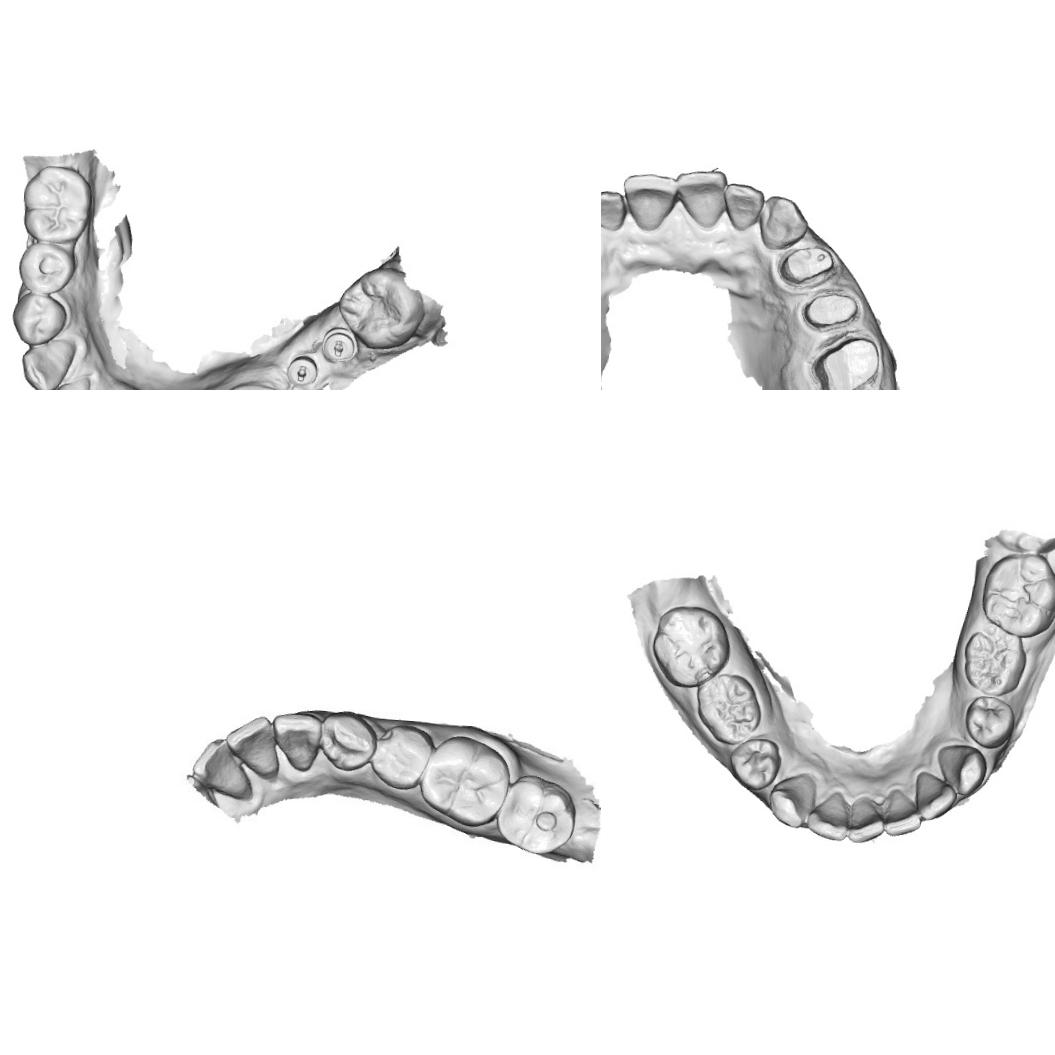canine: (271, 708, 325, 772), (754, 192, 811, 252), (17, 333, 75, 390), (932, 741, 989, 797), (766, 769, 818, 830)
crown: (809, 329, 884, 390), (798, 286, 860, 334), (775, 242, 837, 289)
implant_minus: (318, 324, 359, 368), (283, 353, 320, 389)
incisor: (225, 713, 284, 783), (193, 738, 258, 799), (670, 165, 730, 230), (618, 170, 678, 232), (802, 786, 851, 846), (719, 180, 766, 232), (912, 769, 958, 822), (840, 798, 888, 845), (880, 794, 924, 838), (601, 188, 628, 231), (42, 373, 94, 390)
molar: (334, 262, 428, 352), (418, 733, 506, 827), (645, 602, 732, 692), (977, 549, 1055, 641), (18, 162, 94, 246), (500, 774, 575, 853), (691, 669, 765, 747), (959, 623, 1030, 699)
premolar: (374, 722, 430, 792), (16, 238, 78, 296), (726, 732, 782, 796), (321, 707, 376, 771), (9, 290, 68, 348), (960, 692, 1018, 751)
